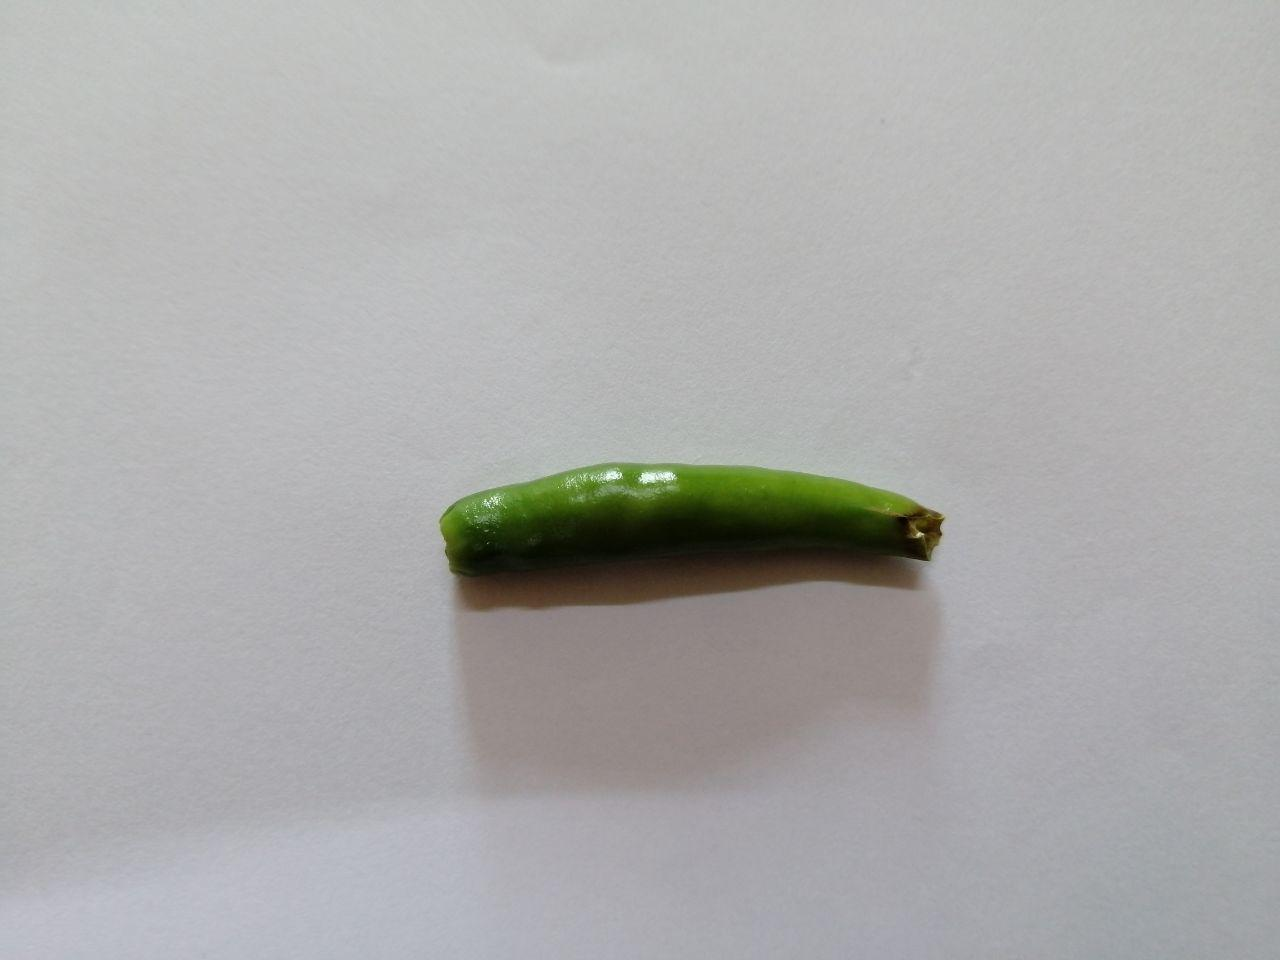lada hijau: (418, 452, 975, 603)
